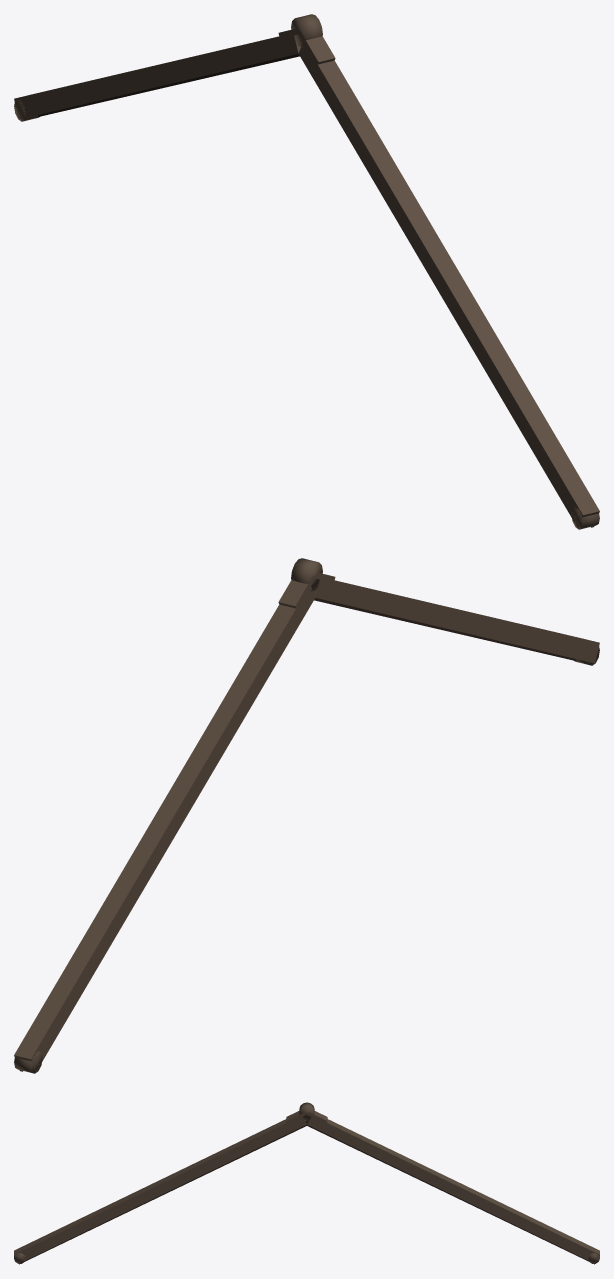
The model's file is kit_timber_thatch_w12_end.glb.
The picture shows the model from 3 angles, top to bottom: view 1: azimuth 30°, elevation 25°; view 2: azimuth 150°, elevation 25°; view 3: azimuth 270°, elevation 25°; orthographic projection. The views are drawn at different scales.
Parts seen in each view (by area): view 1: kit_timber_thatch_w12_end; view 2: kit_timber_thatch_w12_end; view 3: kit_timber_thatch_w12_end.
Boxes of the visible parts, x1,y1,x2,y2 form: kit_timber_thatch_w12_end: (14,14,599,529); kit_timber_thatch_w12_end: (14,558,599,1073); kit_timber_thatch_w12_end: (14,1102,599,1264).
Bounding box in the file's own units: 0.22 × 3.82 × 12.83.
